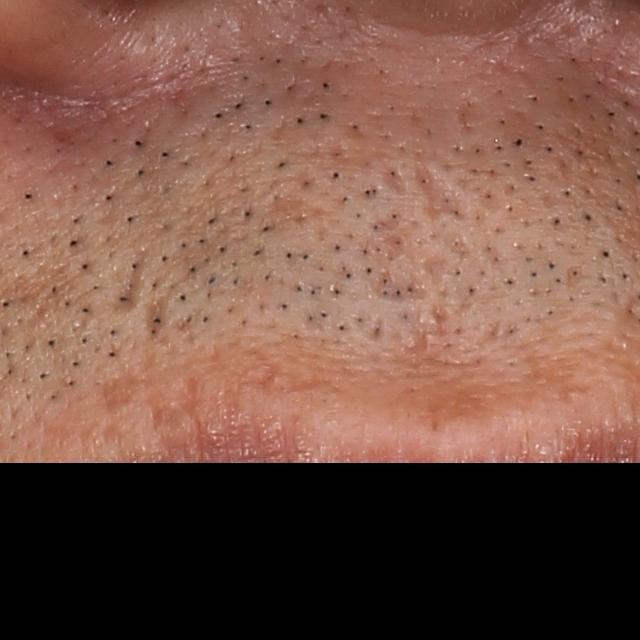atrophic_scar: (407, 143, 471, 227), (259, 192, 340, 230), (371, 266, 439, 307), (111, 246, 150, 316), (144, 282, 176, 345), (99, 368, 136, 417), (420, 254, 461, 292)
